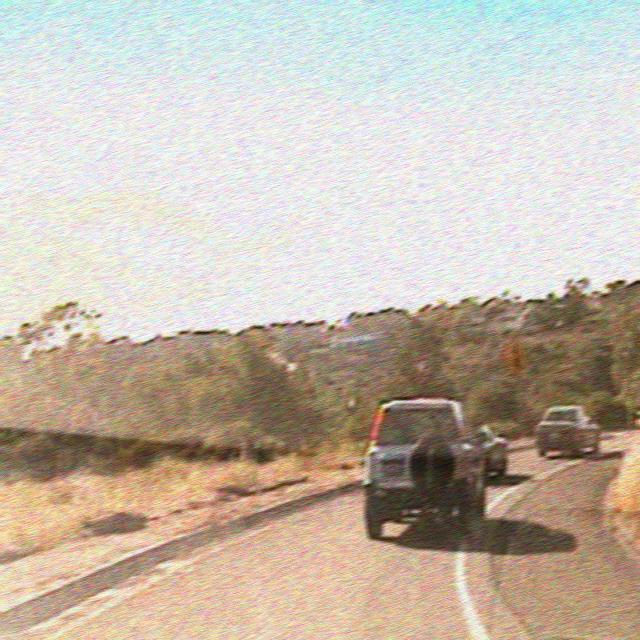yield: (410, 354, 430, 378)
